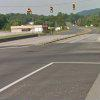Tree: (41, 9, 75, 31)
